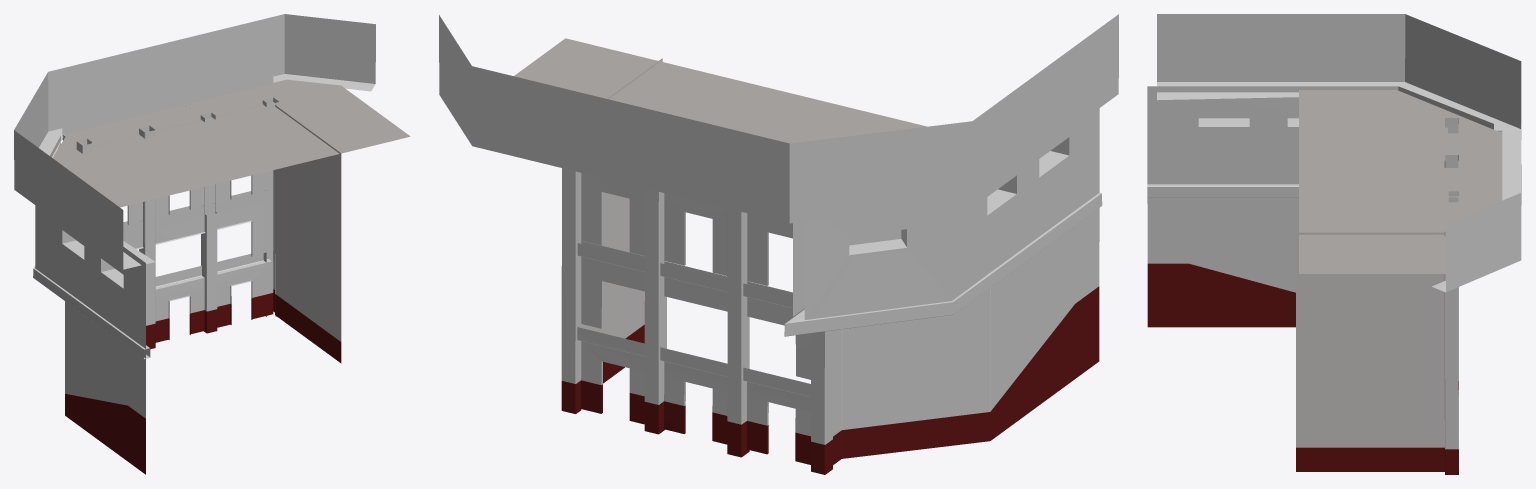
The model's file is SM_H_Building_Tide_Jail_B_01j_ATLAS.fbx.
The picture shows the model from 3 angles, left to right: view 1: azimuth 30°, elevation 25°; view 2: azimuth 150°, elevation 25°; view 3: azimuth 270°, elevation 25°; orthographic projection. The views are drawn at different scales.
Visible parts, largest first — view 1: SM_H_Building_Tide_Jail_B_01j_ATLAS; view 2: SM_H_Building_Tide_Jail_B_01j_ATLAS; view 3: SM_H_Building_Tide_Jail_B_01j_ATLAS.
Boxes of the visible parts, x1,y1,x2,y2 form: SM_H_Building_Tide_Jail_B_01j_ATLAS: (14, 14, 410, 474); SM_H_Building_Tide_Jail_B_01j_ATLAS: (439, 14, 1118, 474); SM_H_Building_Tide_Jail_B_01j_ATLAS: (1147, 14, 1521, 474).
Bounding box in the file's own units: 3342 × 2509 × 2268.
